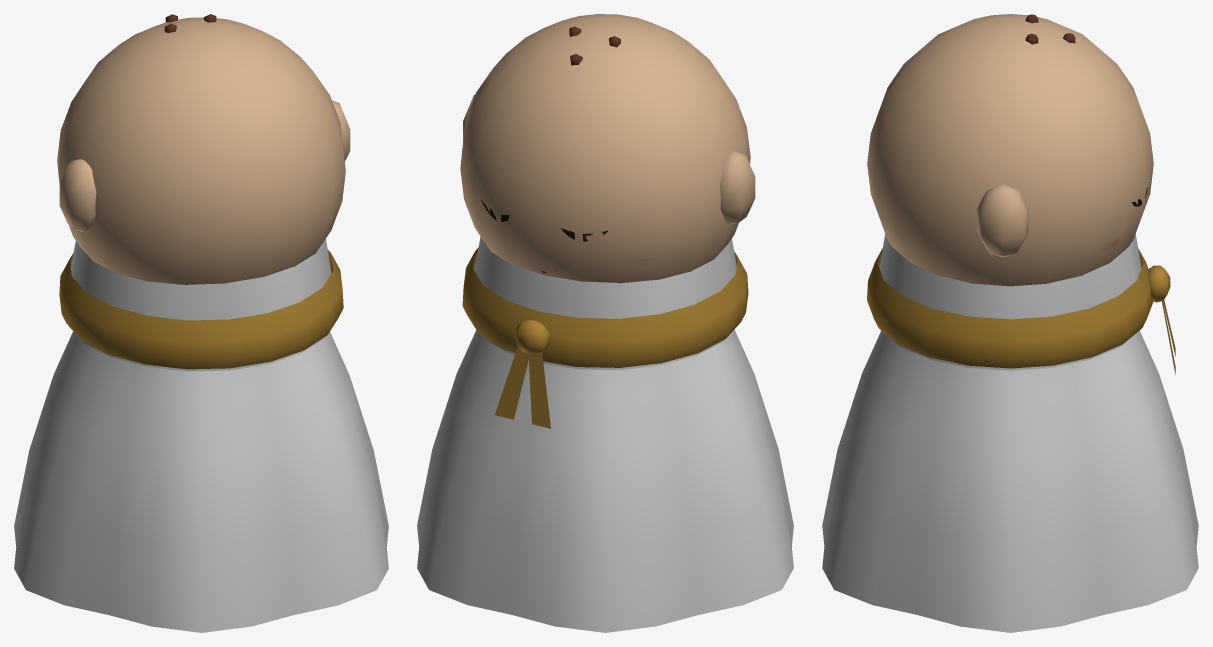
Rendered from monk.glb.
The picture shows the model from 3 angles, left to right: view 1: azimuth 30°, elevation 25°; view 2: azimuth 150°, elevation 25°; view 3: azimuth 270°, elevation 25°; orthographic projection.
Visible parts, largest first — view 1: skirt, head, trim, torso; view 2: skirt, head, trim, torso, face; view 3: skirt, head, trim, torso, face.
Boxes of the visible parts, x1,y1,x2,y2 form: skirt: (14,331,388,632); head: (57,17,350,285); trim: (59,250,343,369); torso: (70,239,331,371); skirt: (417,330,793,632); head: (460,14,755,283); trim: (462,247,748,428); torso: (474,236,737,369); face: (475,26,656,273); skirt: (822,331,1198,632); head: (867,14,1153,286); trim: (867,248,1175,374); torso: (879,234,1141,370); face: (1025,14,1147,256).
Size of the model in its own units: 0.5685 by 0.8053 by 0.5255.
